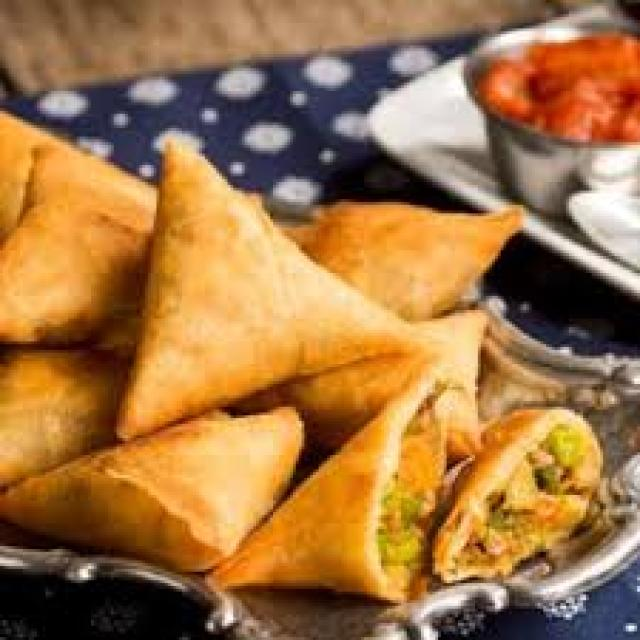SAMOSA: (122, 139, 421, 438), (213, 378, 444, 597), (0, 410, 302, 569), (0, 111, 154, 338), (427, 296, 637, 455), (432, 410, 600, 577), (282, 208, 518, 319), (0, 350, 122, 484)
